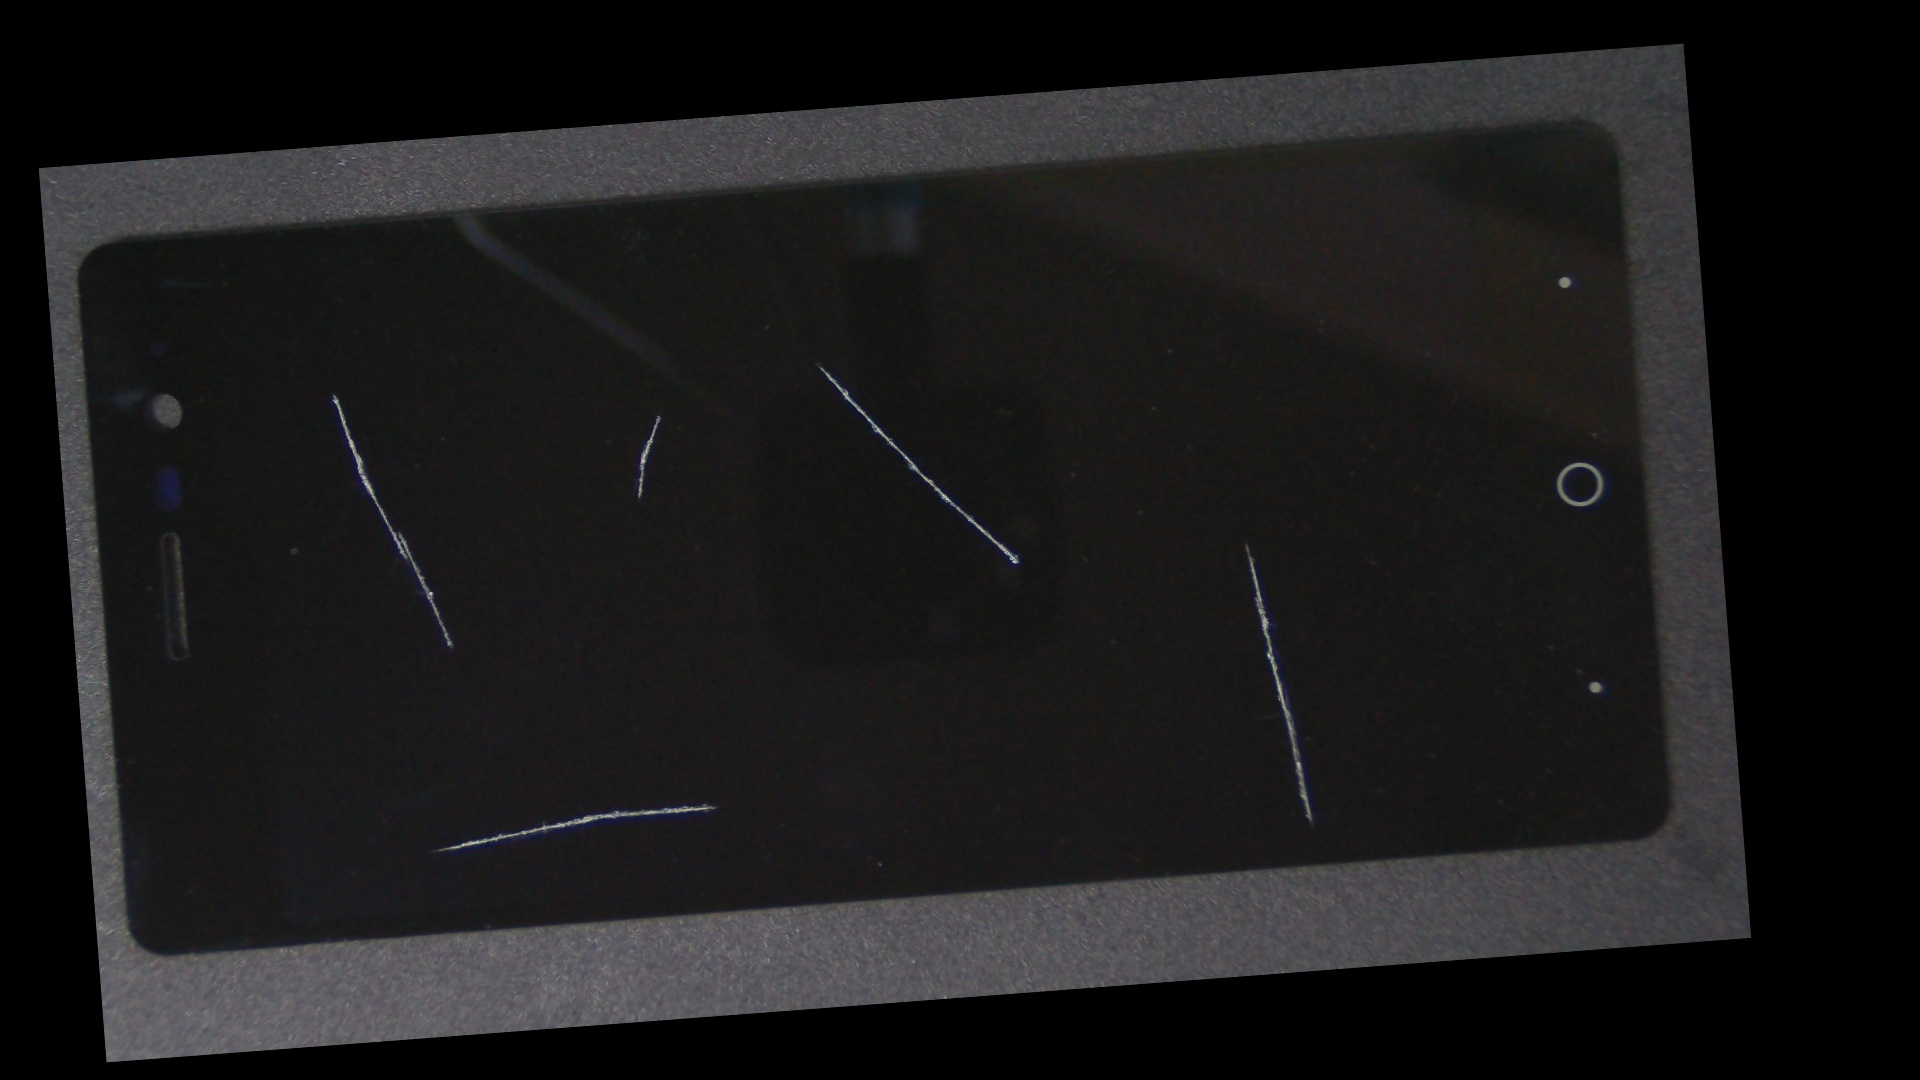oil: (644, 276, 1737, 820), (371, 439, 1023, 1039), (429, 207, 1205, 517), (349, 245, 968, 583), (187, 258, 481, 527)
